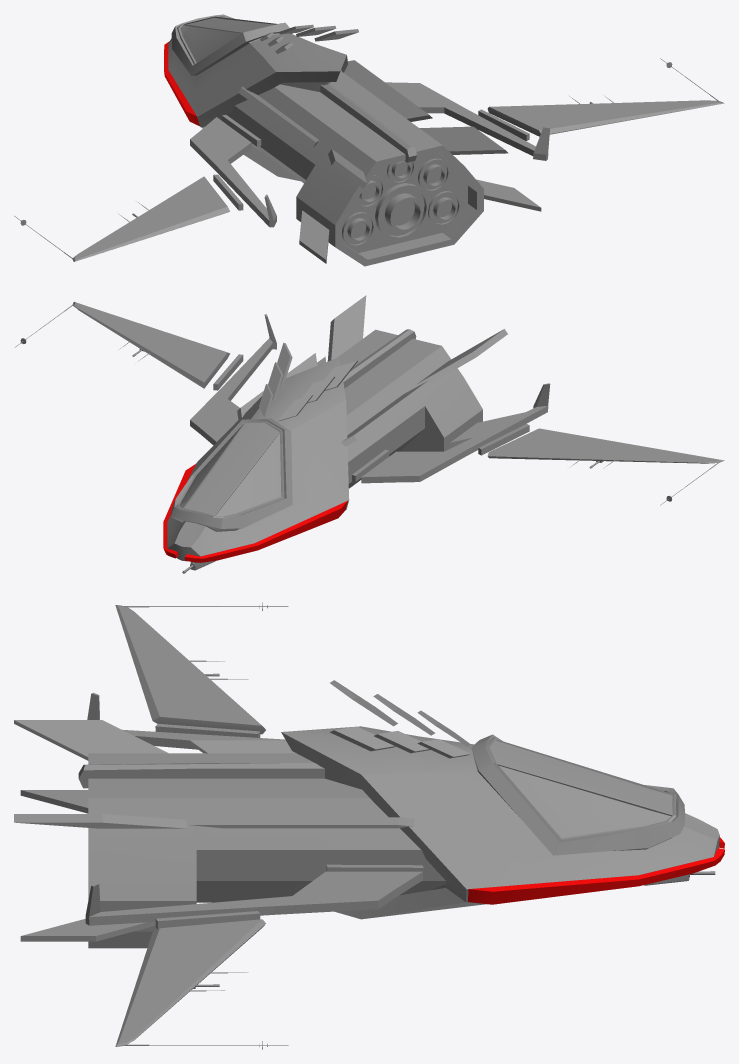
3 renders of one model, top to bottom at view 1: azimuth 30°, elevation 25°; view 2: azimuth 150°, elevation 25°; view 3: azimuth 270°, elevation 25°, orthographic. The views are drawn at different scales.
Visible parts, largest first — view 1: Box002; view 2: Box002; view 3: Box002.
Boxes of the visible parts, box(x1,y1,x2,y2) form: Box002: box(14, 14, 724, 266); Box002: box(14, 295, 724, 573); Box002: box(14, 602, 724, 1049).
Bounding box in the file's own units: 396 × 88.79 × 269.
